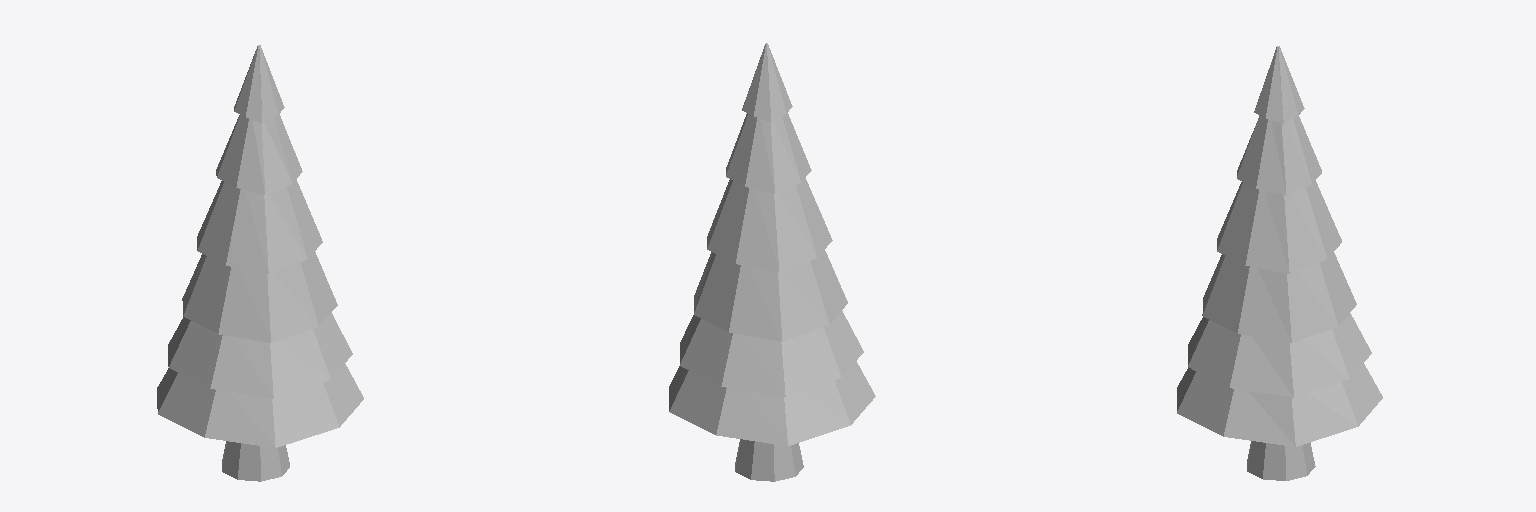
File: lowpolytree.obj
The picture shows the model from 3 angles: view 1: azimuth 30°, elevation 25°; view 2: azimuth 150°, elevation 25°; view 3: azimuth 270°, elevation 25°; orthographic projection.
Parts seen in each view (by area): view 1: Cylinder, bark; view 2: Cylinder, bark; view 3: Cylinder, bark.
Boxes of the visible parts, box(x1,y1,x2,y2) form: Cylinder: box(157, 45, 363, 447); bark: box(222, 441, 289, 481); Cylinder: box(669, 43, 875, 445); bark: box(735, 439, 803, 481); Cylinder: box(1177, 46, 1382, 446); bark: box(1247, 441, 1315, 480).
Size of the model in its own units: 2.31 by 5.12 by 2.28.